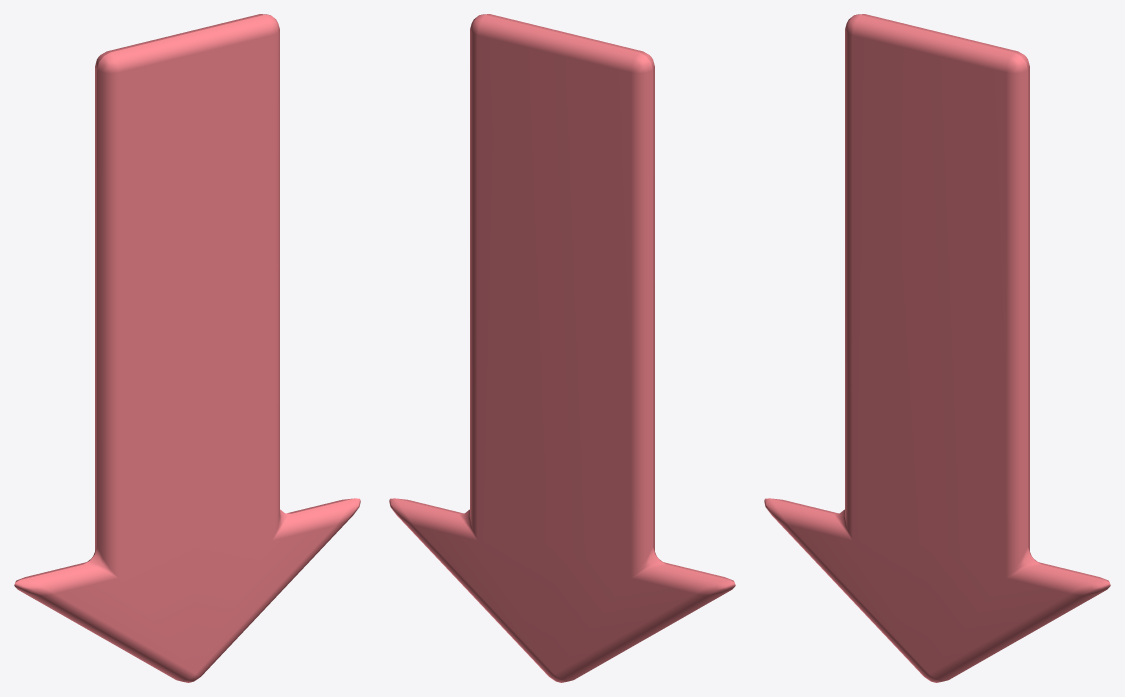
File: redDownArrow.glb
3 views of the same model, side by side, from view 1: azimuth 30°, elevation 25°; view 2: azimuth 150°, elevation 25°; view 3: azimuth 330°, elevation 25° (orthographic).
Parts seen in each view (by area): view 1: Plane.002_light red_0; view 2: Plane.002_light red_0; view 3: Plane.002_light red_0.
Boxes of the visible parts, <box> form: Plane.002_light red_0: <box>14,14,360,682</box>; Plane.002_light red_0: <box>389,14,735,682</box>; Plane.002_light red_0: <box>764,14,1110,682</box>.
Size of the model in its own units: 0.5037 by 0.8989 by 0.0404.
